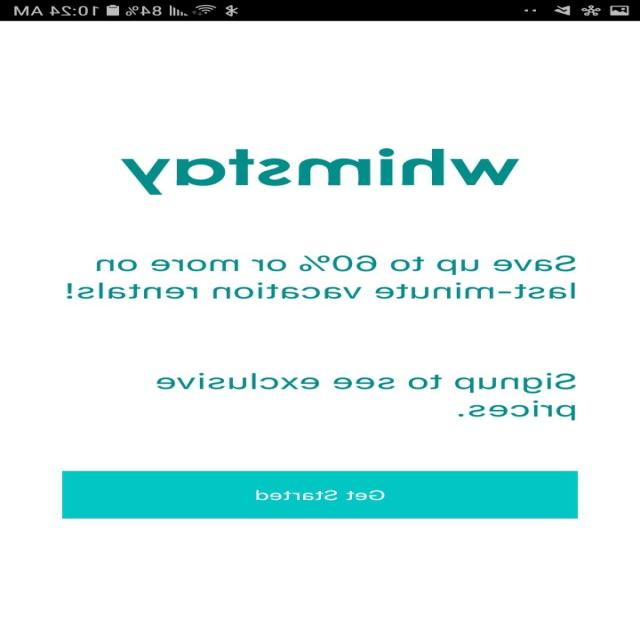Text: (66, 254, 577, 299), (156, 372, 577, 420), (121, 147, 520, 195)
TextButton: (62, 471, 578, 518)
